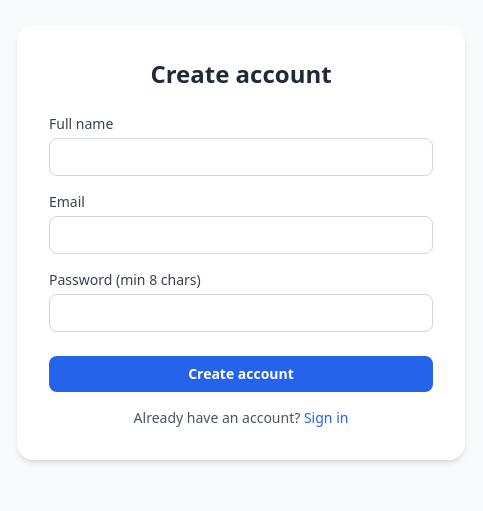
Test case: Register Form Validation › shows error for all empty required fields on submit
Click the button "Create account".
click(241, 374)  # box [49, 356, 433, 392]
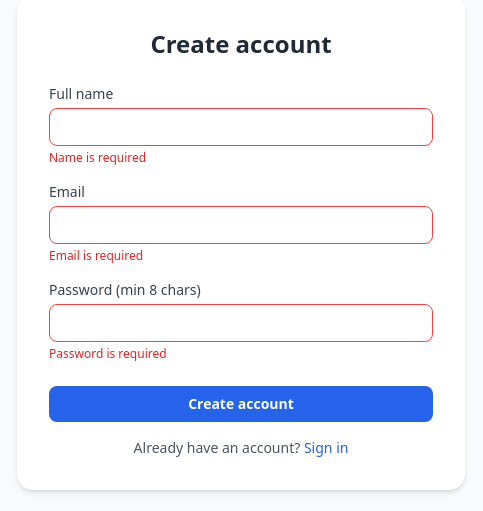
Expected: the text "Name is required" is shown, [49, 149, 146, 166]
Expected: the text "Email is required" is shown, [49, 247, 143, 264]
Expected: the text "Password is required" is shown, [49, 345, 167, 362]
